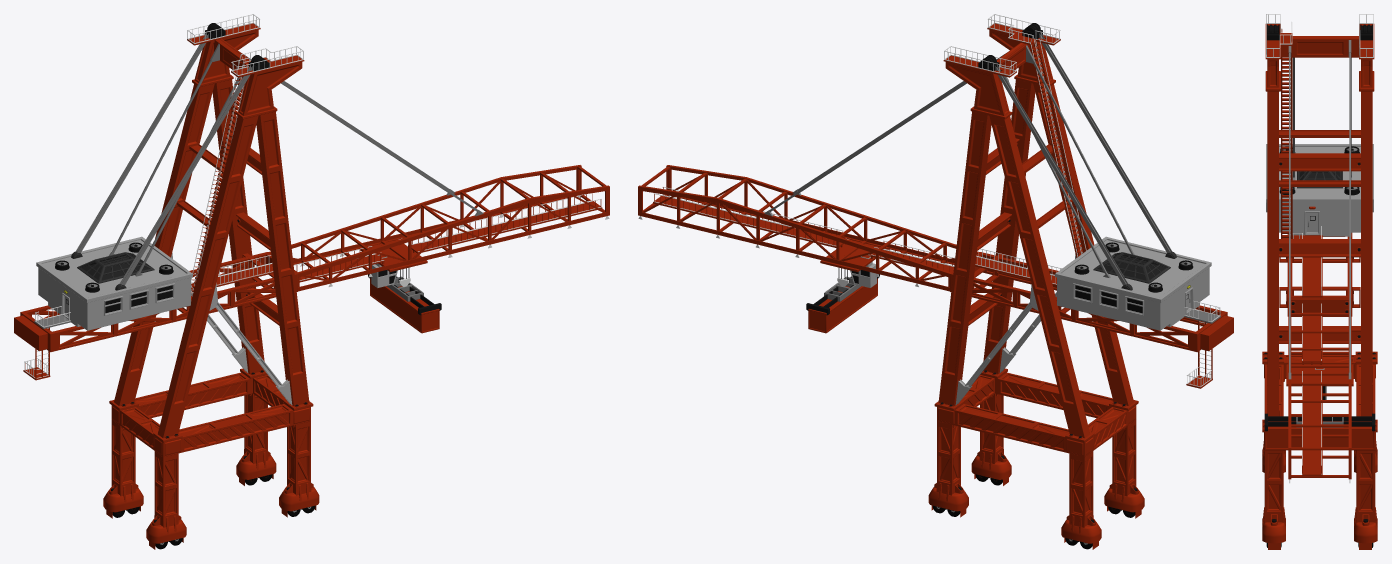
Rendered from diaojij.fbx.
3 renders of one model, left to right at view 1: azimuth 30°, elevation 25°; view 2: azimuth 150°, elevation 25°; view 3: azimuth 270°, elevation 25°, orthographic. The views are drawn at different scales.
Parts seen in each view (by area): view 1: desirefx_me_001; view 2: desirefx_me_001; view 3: desirefx_me_001.
Boxes of the visible parts, box(x1,y1,x2,y2) form: desirefx_me_001: box(14, 14, 609, 549); desirefx_me_001: box(638, 14, 1233, 549); desirefx_me_001: box(1262, 14, 1377, 549).
Bounding box in the file's own units: 38.79 × 30.34 × 6.38.
